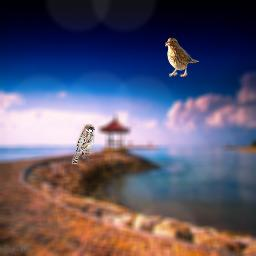Sparrow: (165, 37, 199, 77), (72, 124, 95, 164)
